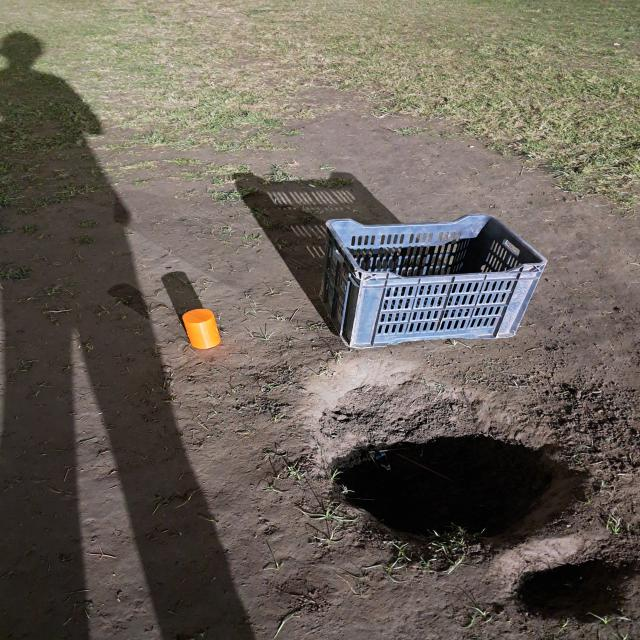Cylinder: (181, 308, 221, 350)
